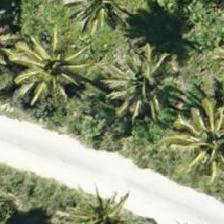Kelapa_Sawit: (0, 24, 90, 114), (167, 95, 224, 185), (54, 0, 144, 46)
